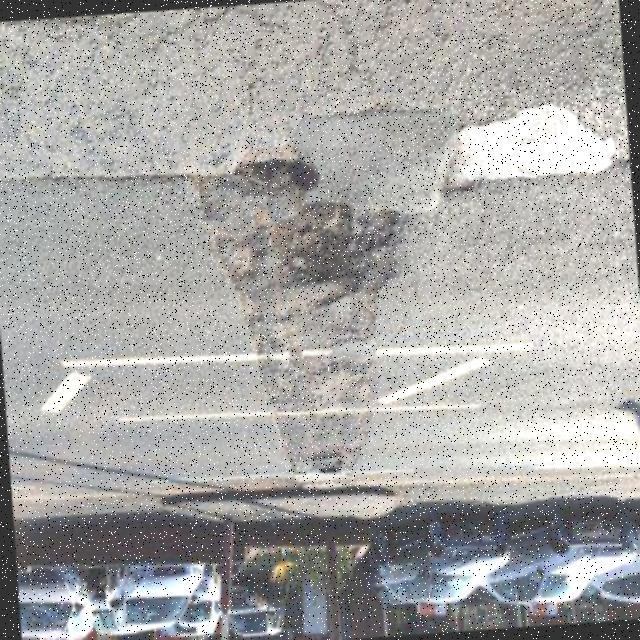Pothole: (270, 201, 399, 292), (237, 147, 319, 190)
